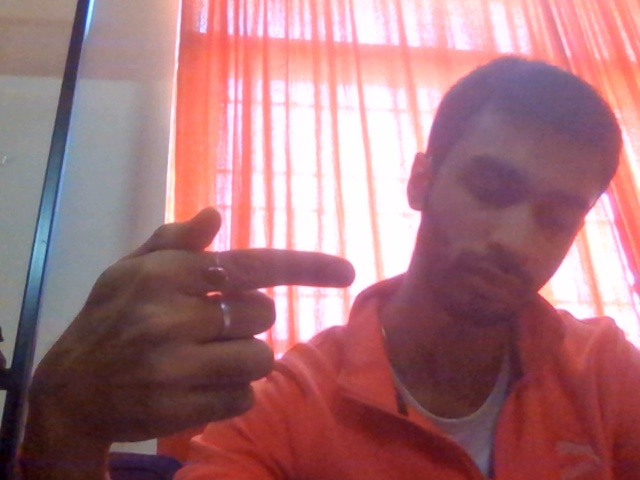G: (24, 190, 394, 480)
